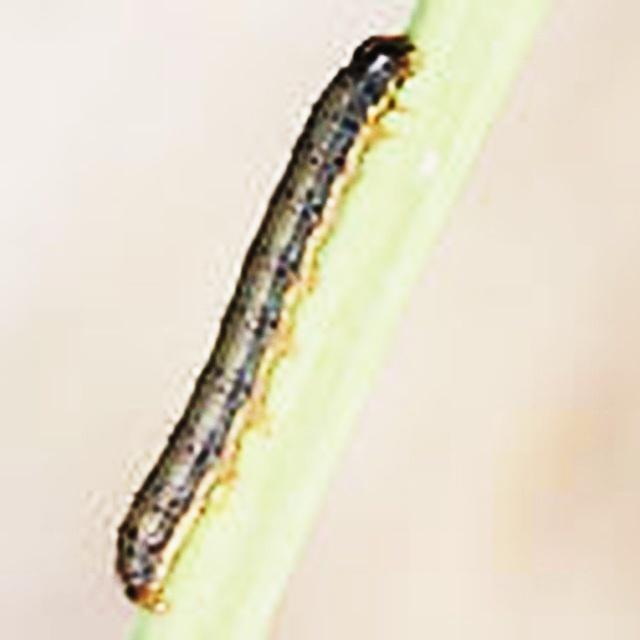gusano_cogollero: (112, 31, 418, 598)
